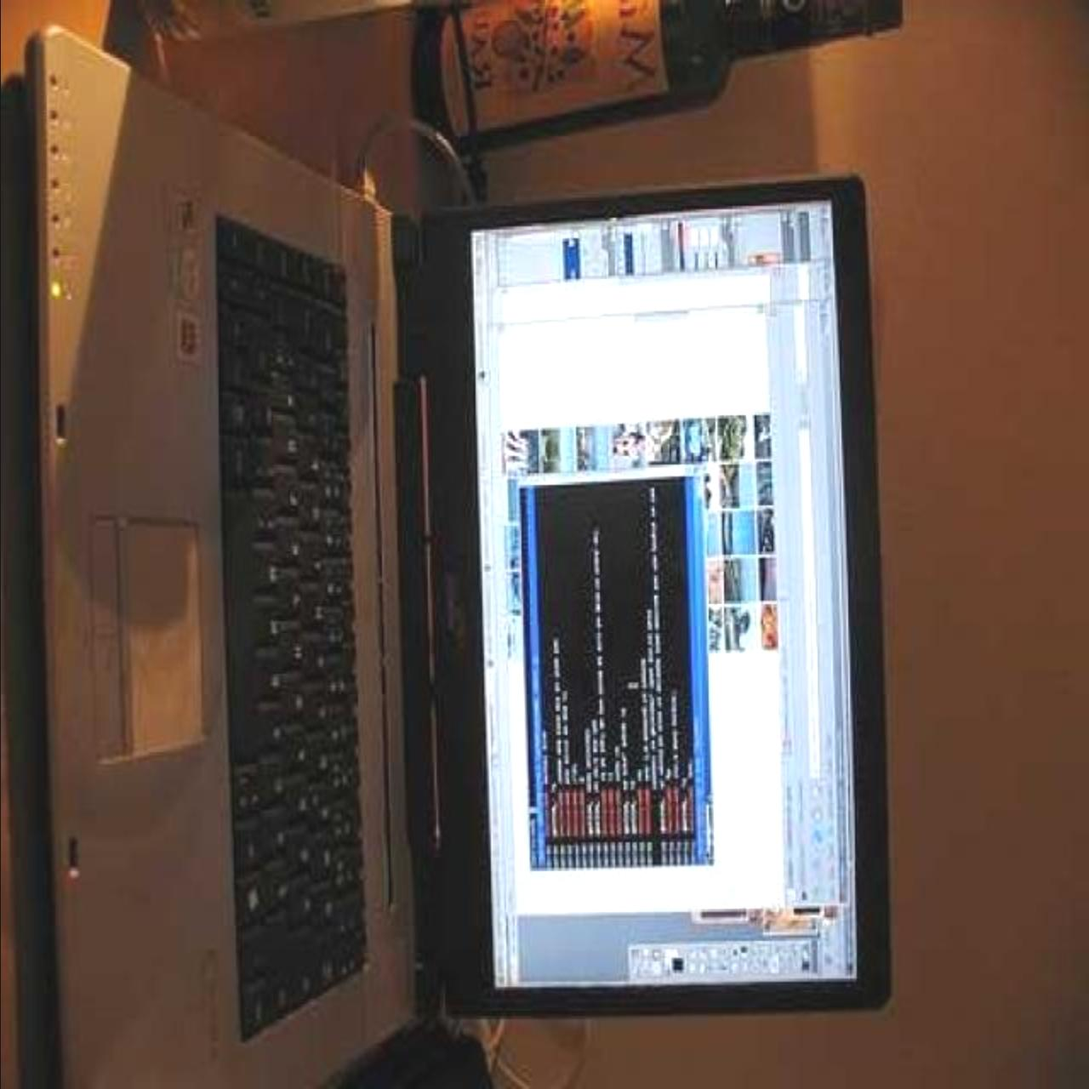laptop: (31, 143, 881, 1035)
